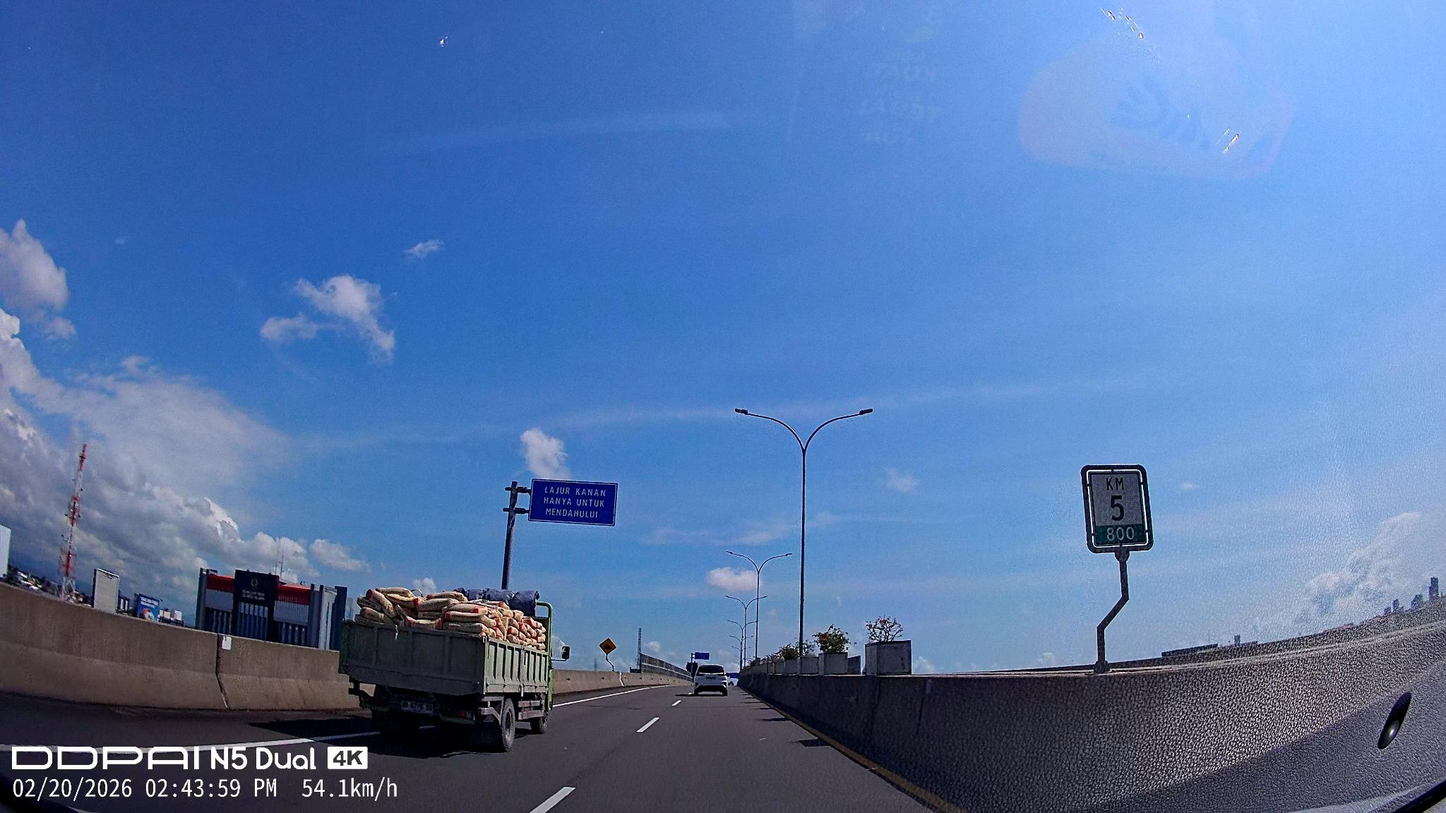rambu_teks: (527, 478, 618, 527)
